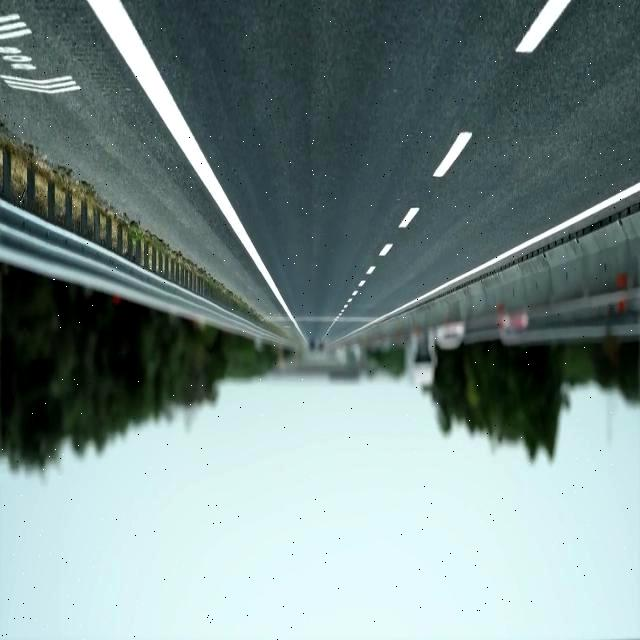lane: (89, 1, 297, 328), (335, 181, 640, 341), (518, 1, 571, 52), (434, 133, 472, 178), (434, 132, 471, 176), (398, 207, 420, 229), (379, 243, 395, 258)
road: (123, 1, 640, 341), (1, 1, 287, 325)
